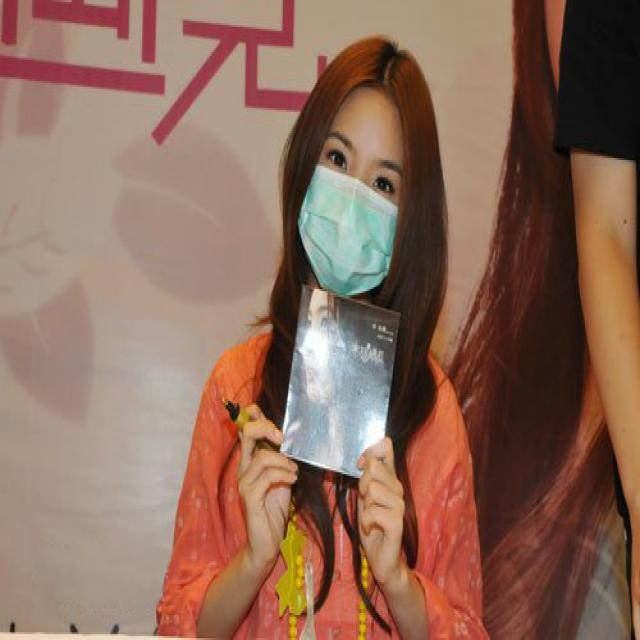mask: (296, 95, 398, 302)
